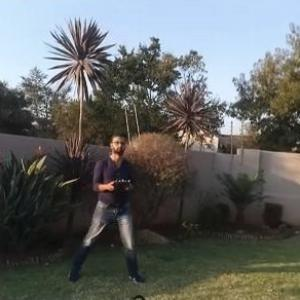follow: (64, 126, 148, 284)
